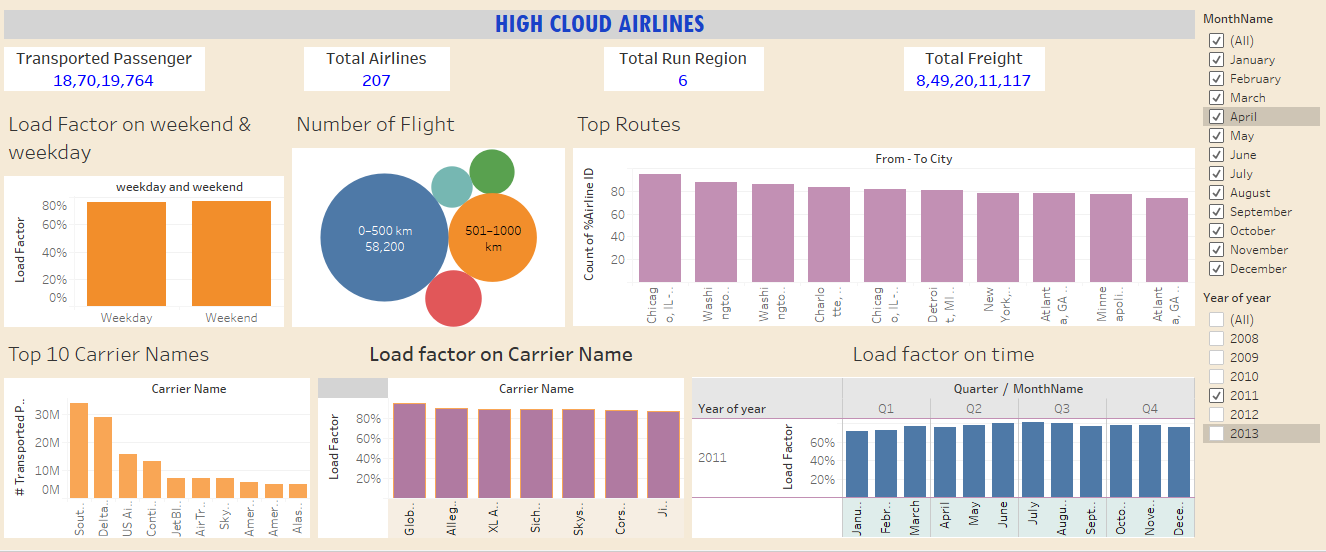

This screenshot's page, from the dashboard's own definition file:
{"tool":"tableau","page":{"name":"Dashboard 1","canvas":[1000,1000],"units":"permille","ordinal":0},"visuals":[{"type":"title","box":[6,14.5,894.8,67]},{"type":"filter","title":"Load factor on time","param":"[federated.0i69snq09jop8k16omke21b1j645].[none:Calculation_105834596059279361:nk","box":[900.8,14.5,93.3,505.4]},{"type":"worksheet","title":"Transported Passenger","mark":"Automatic","box":[6,81.5,223.9,94.2]},{"type":"worksheet","title":"Total Airlines","mark":"Automatic","box":[229.8,81.5,223.9,94.2]},{"type":"worksheet","title":"Total Run Region ","mark":"Automatic","box":[453.7,81.5,223.9,94.2]},{"type":"worksheet","title":"Total Freight","mark":"Automatic","box":[677.6,81.5,223.1,94.2]},{"type":"worksheet","title":"Load Factor on weekend & weekday","mark":"Automatic","rows":["Calculation_303148554760454147"],"cols":["Calculation_303148554770141188"],"box":[6,186.6,214.9,416.7]},{"type":"worksheet","title":"Number of Flight ","mark":"Circle","box":[220.9,186.6,209.7,416.7]},{"type":"worksheet","title":"Top Routes","mark":"Automatic","rows":["%Airline ID"],"cols":["From - To City"],"box":[430.6,186.6,470.1,416.7]},{"type":"filter","title":"Load factor on time","param":"[federated.0i69snq09jop8k16omke21b1j645].[yr:Calculation_105834596060467202:ok]","box":[900.8,519.9,93.3,298.9]},{"type":"worksheet","title":"Top 10 Carrier Names ","mark":"Automatic","rows":["# Transported Passengers"],"cols":["Carrier Name"],"box":[6,603.3,234.3,382.2]},{"type":"worksheet","title":"Load factor on Carrier Name","mark":"Automatic","rows":["Calculation_303148554760454147"],"cols":["Carrier Name"],"box":[240.3,603.3,279.1,382.2]},{"type":"worksheet","title":"Load factor on time","mark":"Bar","rows":["Calculation_105834596060467202","Calculation_303148554760454147"],"cols":["Calculation_105834596062007300","Calculation_105834596059279361"],"box":[519.4,603.3,381.2,382.2]}]}

Visuals, with their boxes on the dashboard's canvas, which has no fixed pixel size, in thousandths of its width and height (x1, y1, x2, y2). These are canvas units, not pixel positions in the 1326x552 screenshot, which may show the page scaled, cropped or inside an application window:
title: locate(6, 14, 901, 82)
"Load factor on time" filter: locate(901, 14, 994, 520)
"Transported Passenger" worksheet: locate(6, 82, 230, 176)
"Total Airlines" worksheet: locate(230, 82, 454, 176)
"Total Run Region " worksheet: locate(454, 82, 678, 176)
"Total Freight" worksheet: locate(678, 82, 901, 176)
"Load Factor on weekend & weekday" worksheet: locate(6, 187, 221, 603)
"Number of Flight " worksheet (Circle marks): locate(221, 187, 431, 603)
"Top Routes" worksheet: locate(431, 187, 901, 603)
"Load factor on time" filter: locate(901, 520, 994, 819)
"Top 10 Carrier Names " worksheet: locate(6, 603, 240, 986)
"Load factor on Carrier Name" worksheet: locate(240, 603, 519, 986)
"Load factor on time" worksheet (Bar marks): locate(519, 603, 901, 986)
